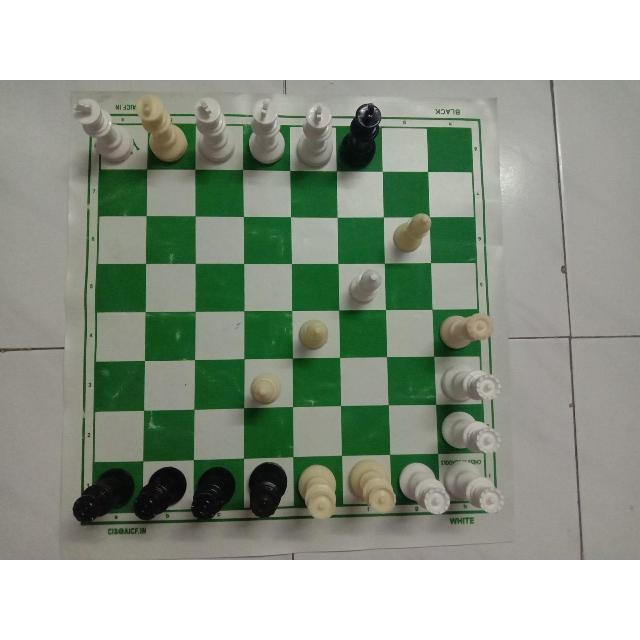black-king: (336, 97, 383, 173)
black-queen: (72, 469, 136, 527), (133, 461, 185, 524), (188, 465, 238, 525), (245, 460, 289, 526)
white-bishop: (382, 210, 437, 262), (336, 264, 390, 310), (245, 368, 285, 408), (295, 314, 331, 354)
white-king: (70, 96, 138, 170), (134, 94, 193, 174), (240, 96, 289, 172), (288, 102, 337, 175), (189, 95, 237, 165)
white-queen: (441, 460, 507, 516), (396, 459, 452, 516), (346, 457, 398, 517), (439, 409, 503, 455), (295, 459, 341, 523), (434, 310, 496, 357), (437, 361, 501, 404)
